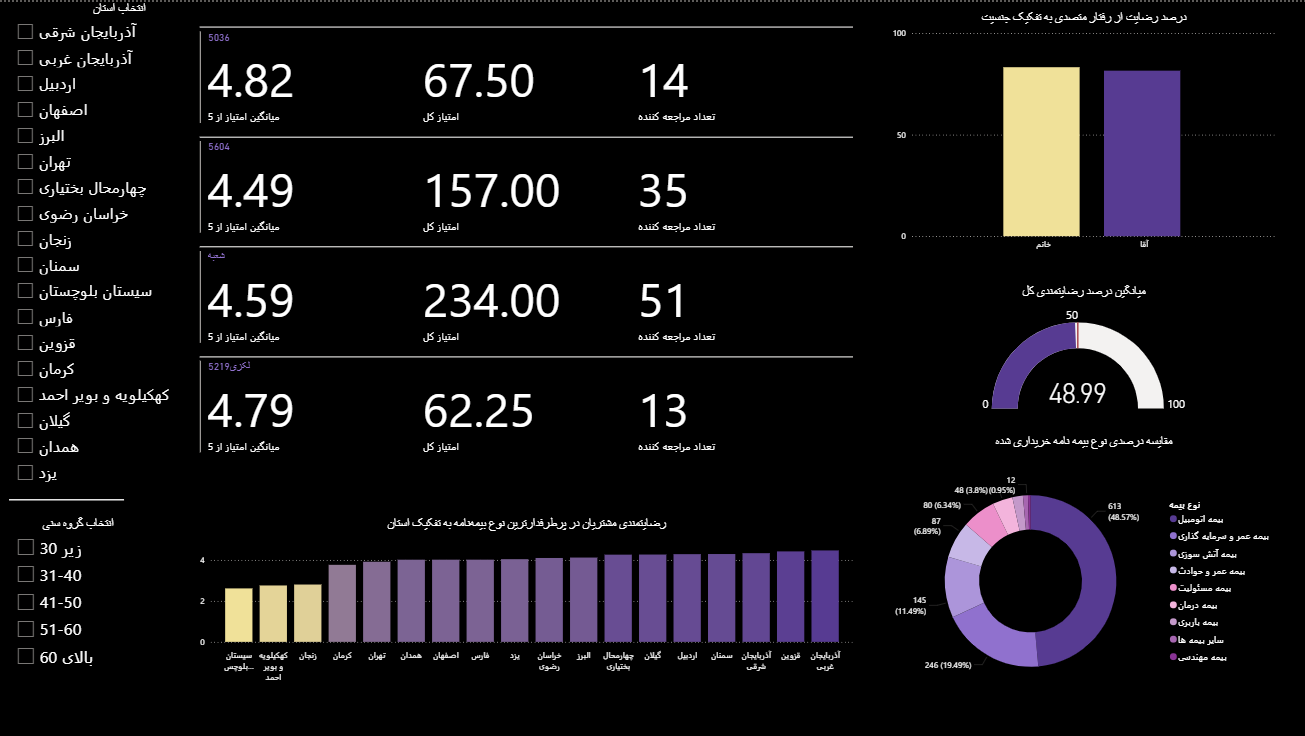

The dashboard page shown, as its layout file describes it:
{"tool":"powerbi","page":{"name":"variaty","canvas":[1920,1080],"ordinal":4},"visuals":[{"type":"clusteredColumnChart","title":"رضایتمندی مشتریان در پرطرفدارترین نوع بیمهنامه به تفکیک استان","fields":{"Category":["FACT_DATA.استان"],"Y":["my_measures.Satisfaction in Top Insurance"]},"box":[290.1,755.5,968.3,250.4],"z":0},{"type":"slicer","title":"انتخاب استان","fields":{"Values":["FACT_QUESTIONS.استان"]},"box":[14.6,0,323.5,882.8],"z":1000},{"type":"donutChart","title":"مقایسه درصدی نوع بیمه نامه خریداری شده","fields":{"Category":["FACT_INSURANCE.نوع بیمه"],"Y":["my_measures.Insurance Purchase Count"]},"box":[1306.4,634.4,571.8,411.1],"z":2000},{"type":"columnChart","title":"درصد رضایت از رفتار متصدی به تفکیک جنسیت","fields":{"Category":["FACT_QUESTION_3.جنسیت"],"Y":["my_measures.Q3 Satisfaction (Avg)"]},"box":[1306.4,12.5,571.8,361],"z":3000},{"type":"multiRowCard","title":"متصدیان فروش برتر","fields":{"Values":["FACT_DATA.شعبه/نمایندگی دریافت خدمت","Avg(FACT_DATA.امتیاز متصدیان فروش)","Sum(FACT_DATA.امتیاز متصدیان فروش)1","Sum(FACT_DATA.تعداد)"]},"box":[290.1,31.3,968.3,682.4],"z":4000},{"type":"gauge","title":"میانگین درصد رضایتمندی کل","fields":{"Y":["my_measures.Overall Satisfaction"],"MinValue":["Gauge_measure.Gauge Min"],"MaxValue":["Gauge_measure.Gauge Max"],"TargetValue":["Gauge_measure.Gauge Target"]},"box":[1306.4,415.3,571.8,192],"z":5000},{"type":"slicer","title":"انتخاب گروه سنی","fields":{"Values":["age_helper.گروه سنی"]},"box":[14.6,755.5,202.4,250.4],"z":5001},{"type":"shape","box":[14.6,651.1,169,158.6],"z":5002}]}

Visuals, with their boxes in screenshot pixels (x1, y1, x2, y2), scaled from the page's 1920x1080 canvas onto the 1305x736 screenshot:
"رضایتمندی مشتریان در پرطرفدارترین نوع بیمهنامه به تفکیک استان" clusteredColumnChart: box=[197, 515, 855, 686]
"انتخاب استان" slicer: box=[10, 0, 230, 602]
"مقایسه درصدی نوع بیمه نامه خریداری شده" donutChart: box=[888, 432, 1277, 712]
"درصد رضایت از رفتار متصدی به تفکیک جنسیت" columnChart: box=[888, 9, 1277, 255]
"متصدیان فروش برتر" multiRowCard: box=[197, 21, 855, 486]
"میانگین درصد رضایتمندی کل" gauge: box=[888, 283, 1277, 414]
"انتخاب گروه سنی" slicer: box=[10, 515, 147, 686]
shape: box=[10, 444, 125, 552]
